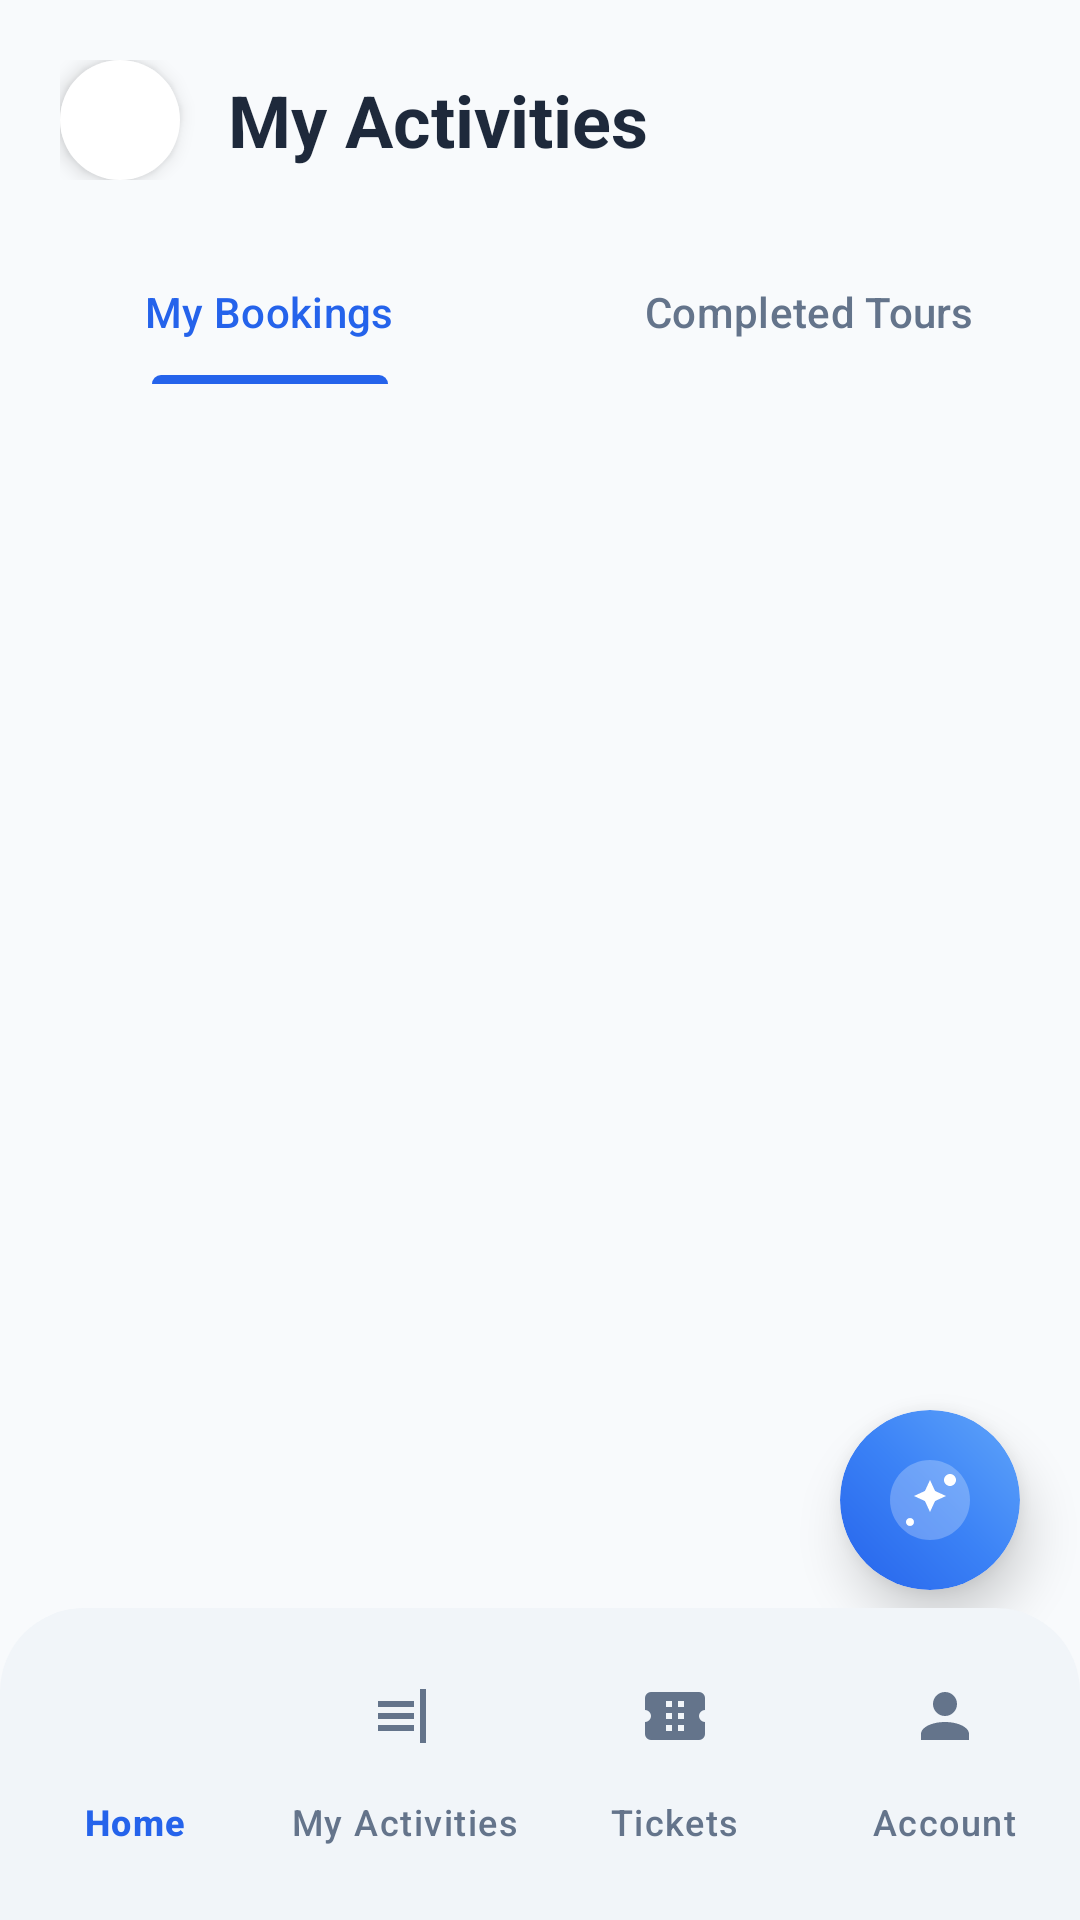

Named icons in this screenshot (1080px x 1920px) and their centers, point (x, y):
Voice Assistant: point (930, 1500)
